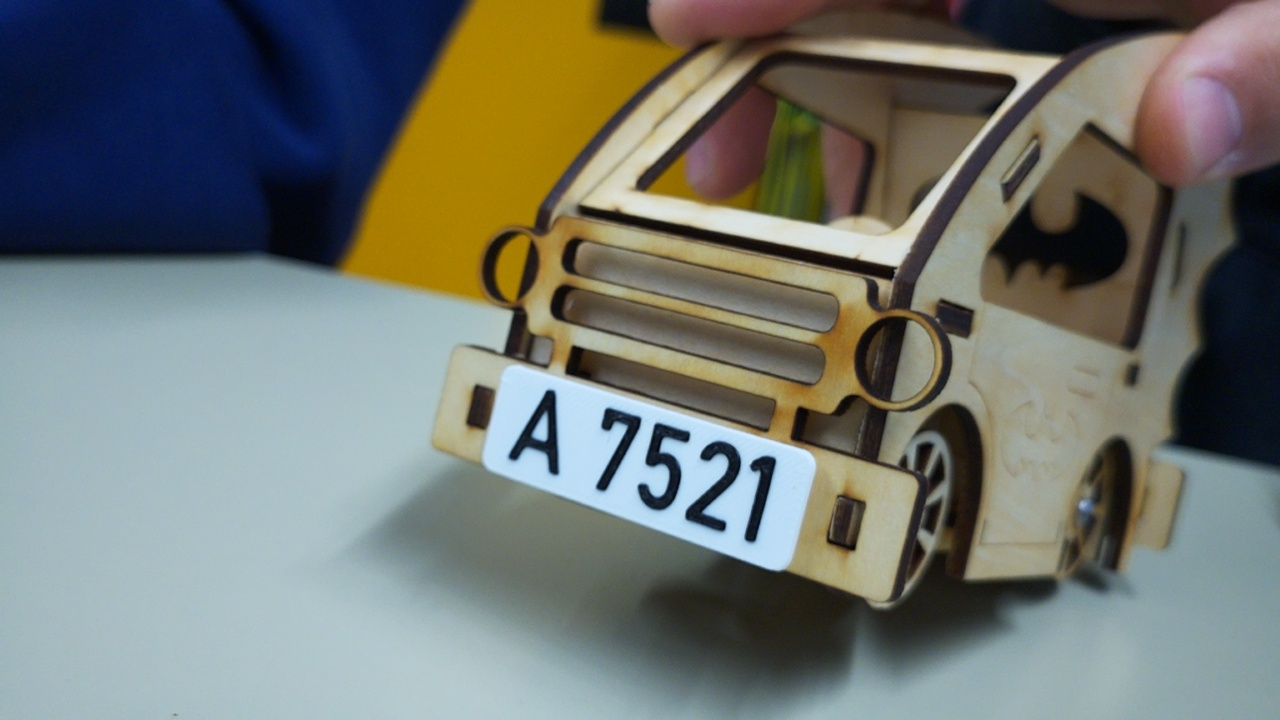license_plate: (478, 360, 821, 576)
